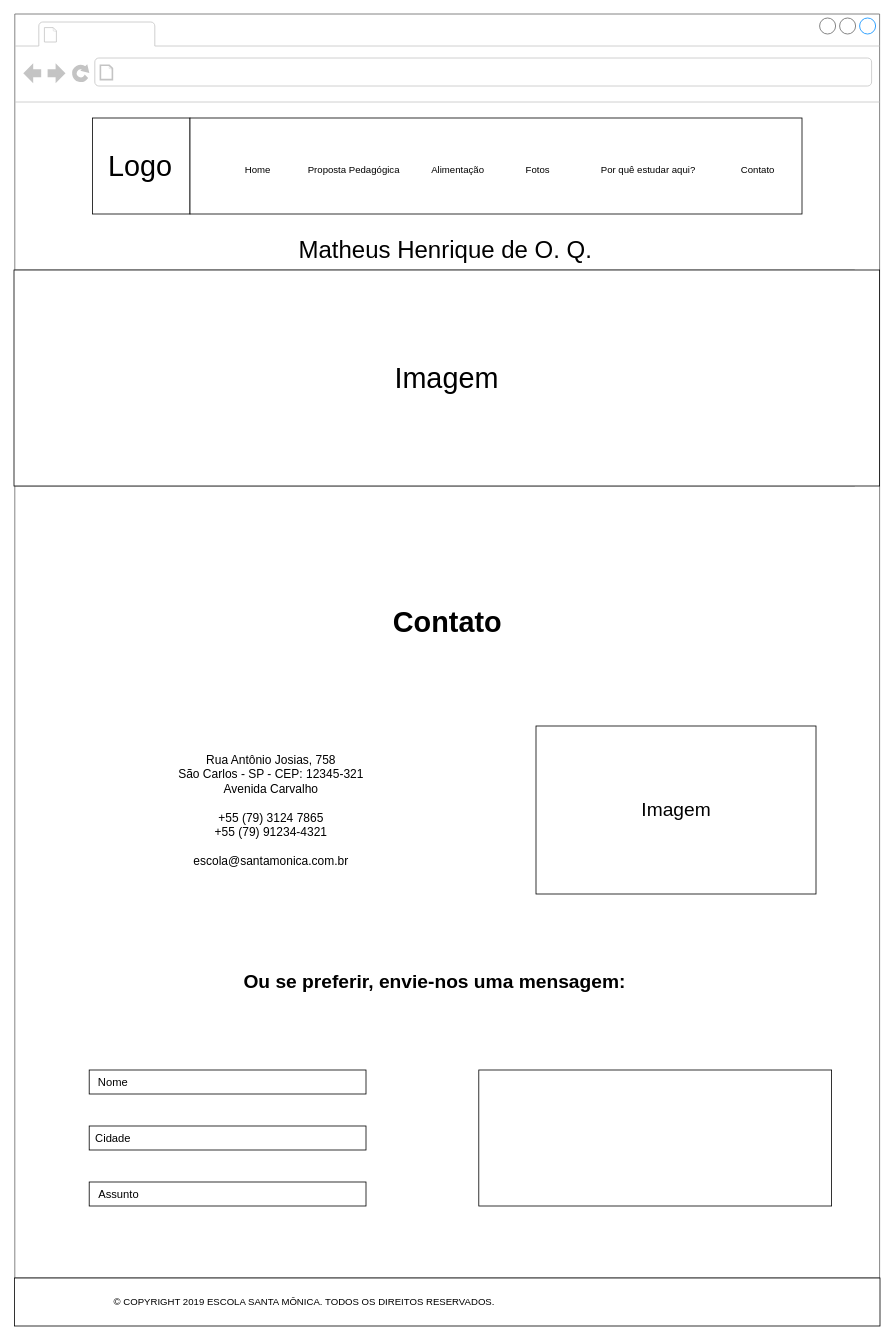
Image size: 894x1340. Some labels were removed from this diagram. Here are the shapes that lost their labels. From the top down, the centre of each, then its label:
At (106,33): "Page 1".
At (218,72): "https://www.escolasantamonica.com".
At (655,1137): "Mensagem".
